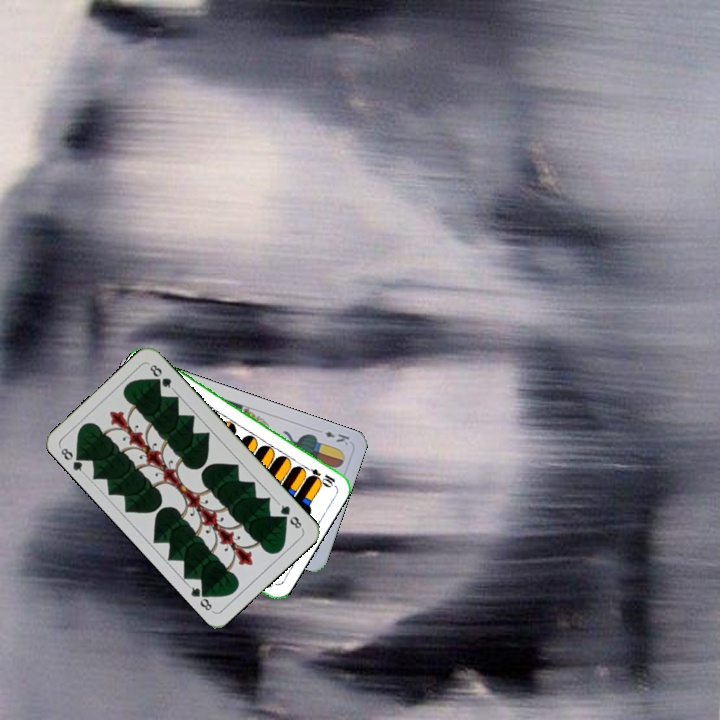E10: (299, 462, 338, 488)
EK: (320, 427, 352, 448)
G8: (55, 444, 88, 477), (274, 499, 305, 532)
